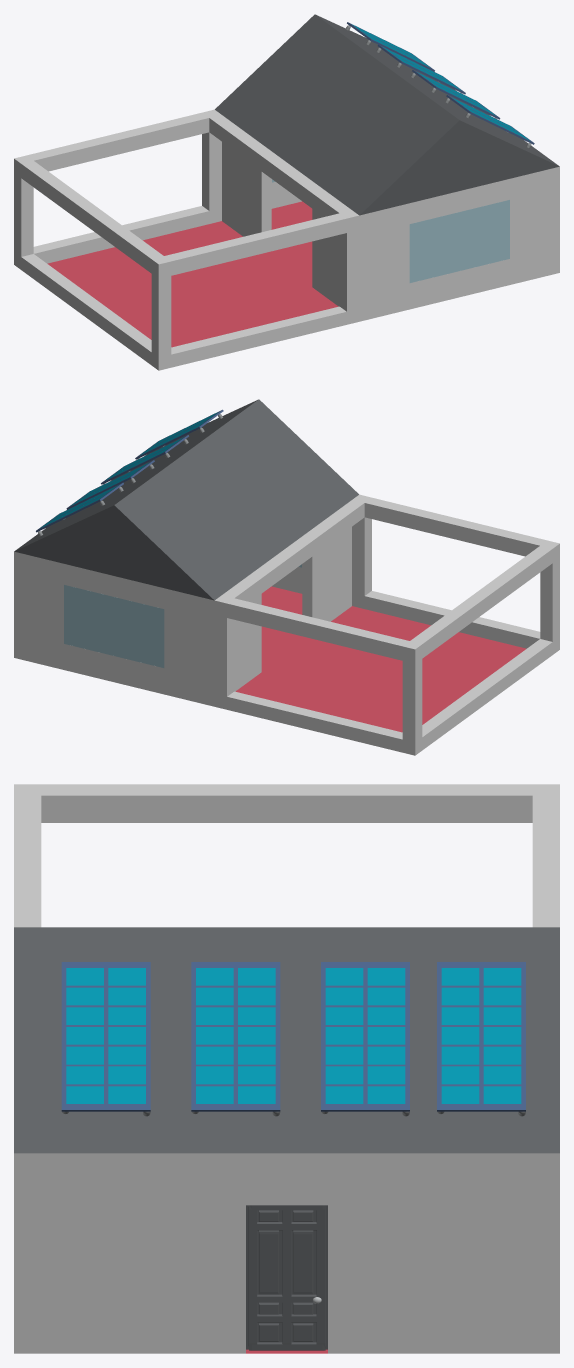
File: ver2.glb
3 views of the same model, one above another, from view 1: azimuth 30°, elevation 25°; view 2: azimuth 150°, elevation 25°; view 3: azimuth 270°, elevation 25° (orthographic). The views are drawn at different scales.
Visible parts, largest first — view 1: Mesh_Mesh_head_geo.001_lambert2SG.001; view 2: Mesh_Mesh_head_geo.001_lambert2SG.001; view 3: Mesh_Mesh_head_geo.001_lambert2SG.001.
Boxes of the visible parts, x1,y1,x2,y2 form: Mesh_Mesh_head_geo.001_lambert2SG.001: [14, 14, 559, 370]; Mesh_Mesh_head_geo.001_lambert2SG.001: [14, 399, 559, 755]; Mesh_Mesh_head_geo.001_lambert2SG.001: [14, 784, 559, 1353].
Bounding box in the file's own units: 0.64 × 0.27 × 0.4.
